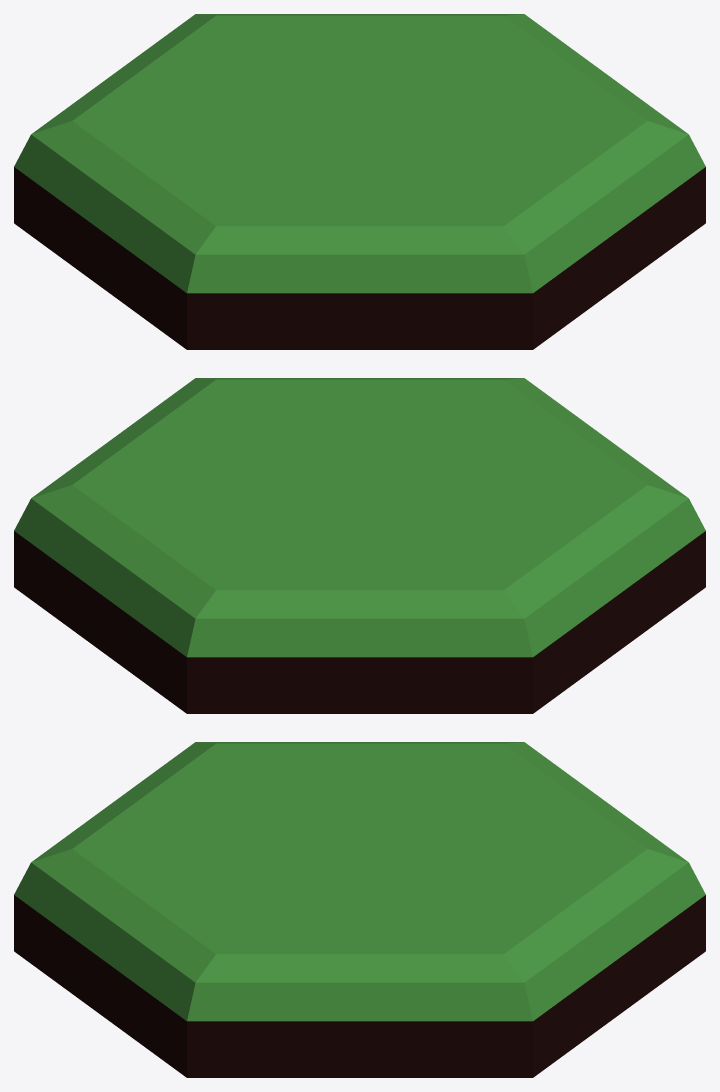
Rendered from BasicTile.fbx.
The picture shows the model from 3 angles, top to bottom: view 1: azimuth 30°, elevation 25°; view 2: azimuth 150°, elevation 25°; view 3: azimuth 270°, elevation 25°; orthographic projection.
Parts seen in each view (by area): view 1: Cylinder; view 2: Cylinder; view 3: Cylinder.
Boxes of the visible parts, left/top/right/bottom form: Cylinder: left=14, top=14, right=705, bottom=349; Cylinder: left=14, top=378, right=705, bottom=713; Cylinder: left=14, top=742, right=705, bottom=1077.
Size of the model in its own units: 173 by 32.65 by 200.
